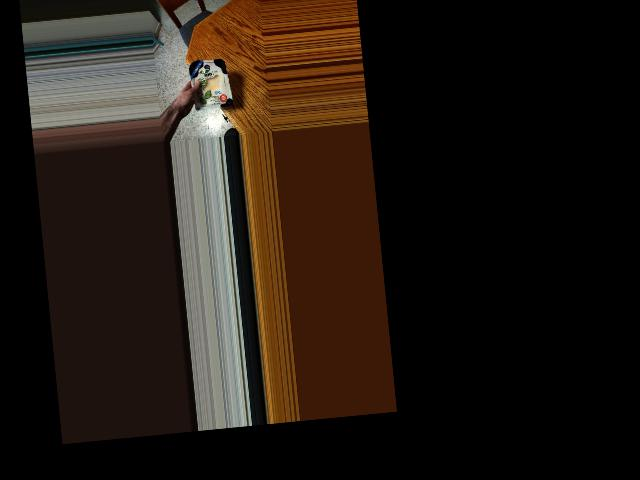cheese: (189, 49, 234, 119)
